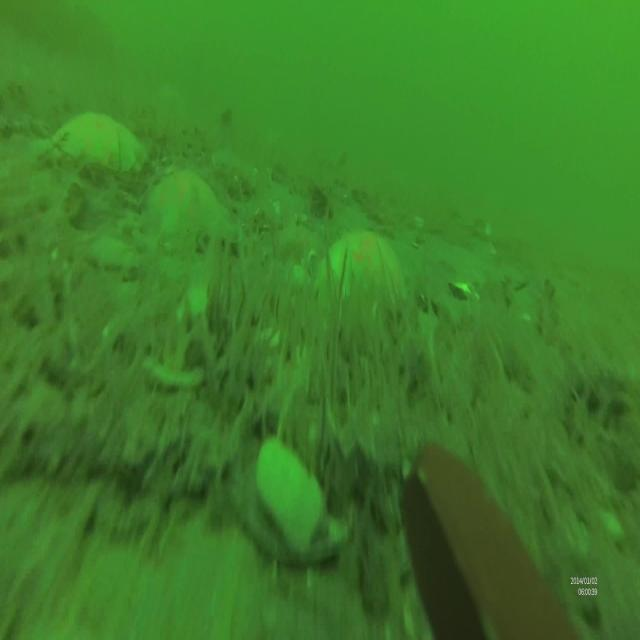starfish: (34, 108, 150, 176), (313, 231, 405, 306), (147, 175, 240, 238)
